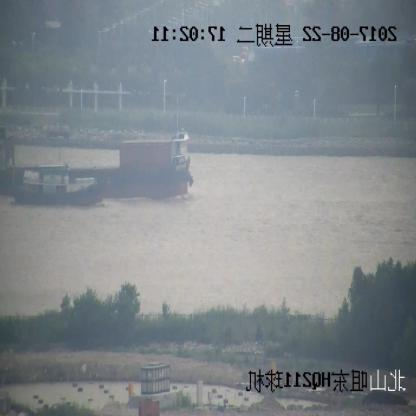Bulk Carrier: (0, 134, 196, 199)
